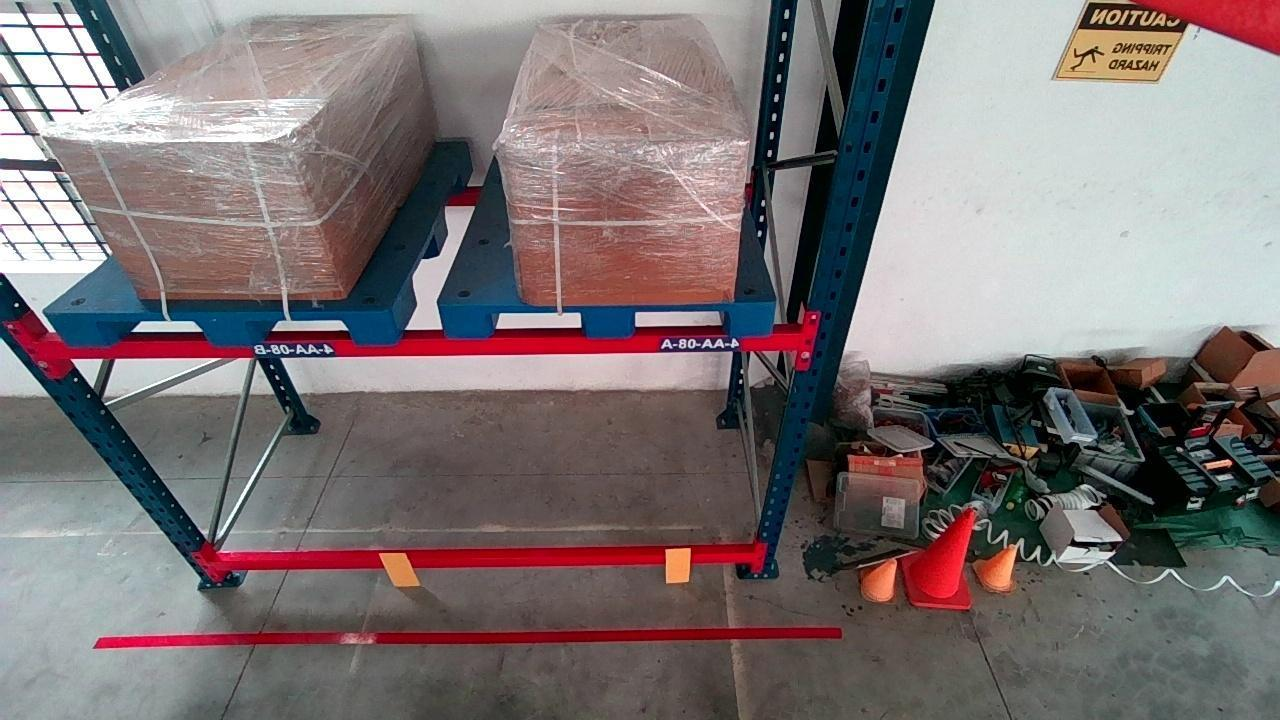h_rack: (48, 318, 802, 358), (214, 547, 751, 573)
orange_strip: (382, 550, 419, 586), (663, 545, 693, 582)
red_line: (98, 619, 842, 652)
small_pallet: (65, 308, 395, 345), (453, 302, 775, 338)
